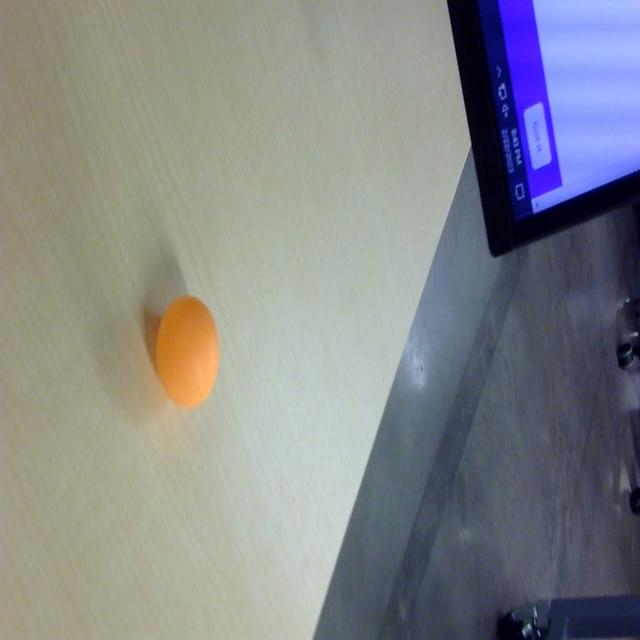ball: (156, 295, 221, 408)
